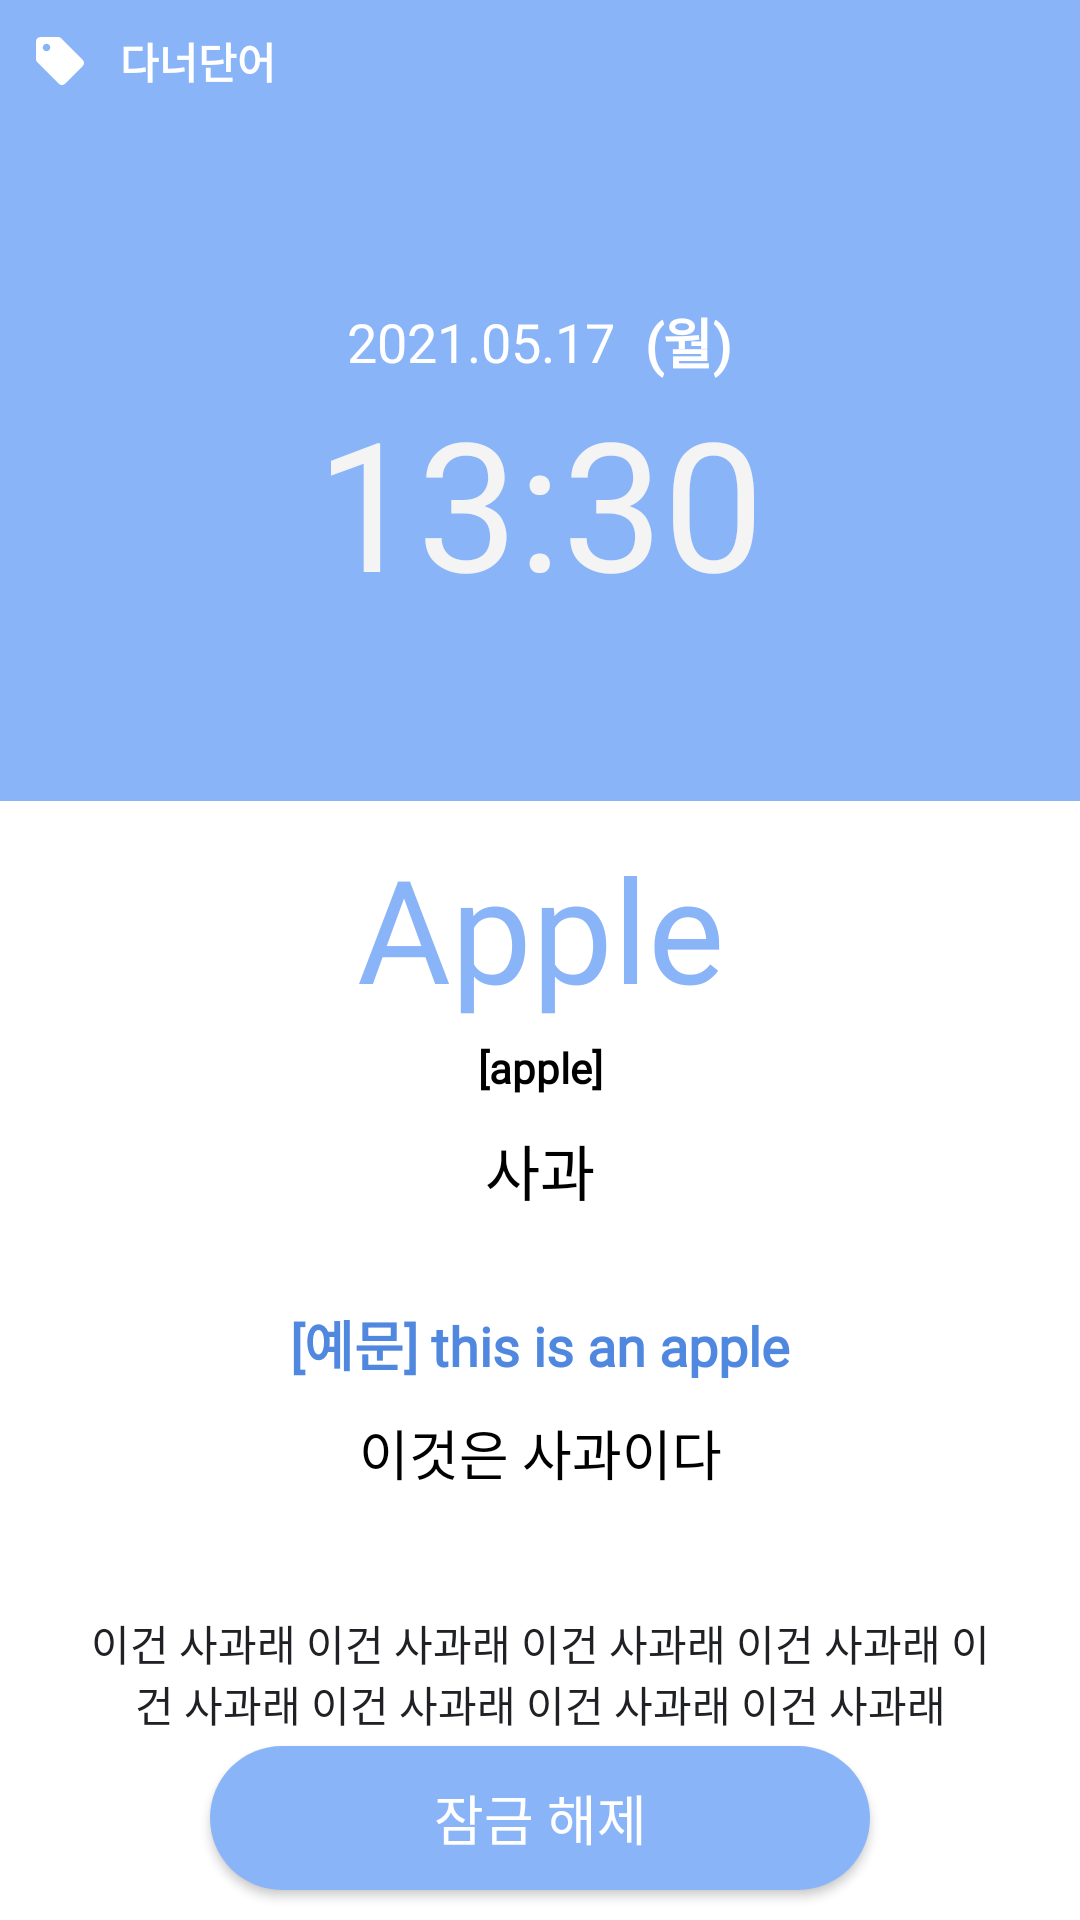

Point at icon controls on the screen. Image size 1080px×1920px, points as (x=x, y=y).
sell: (x=60, y=61)
